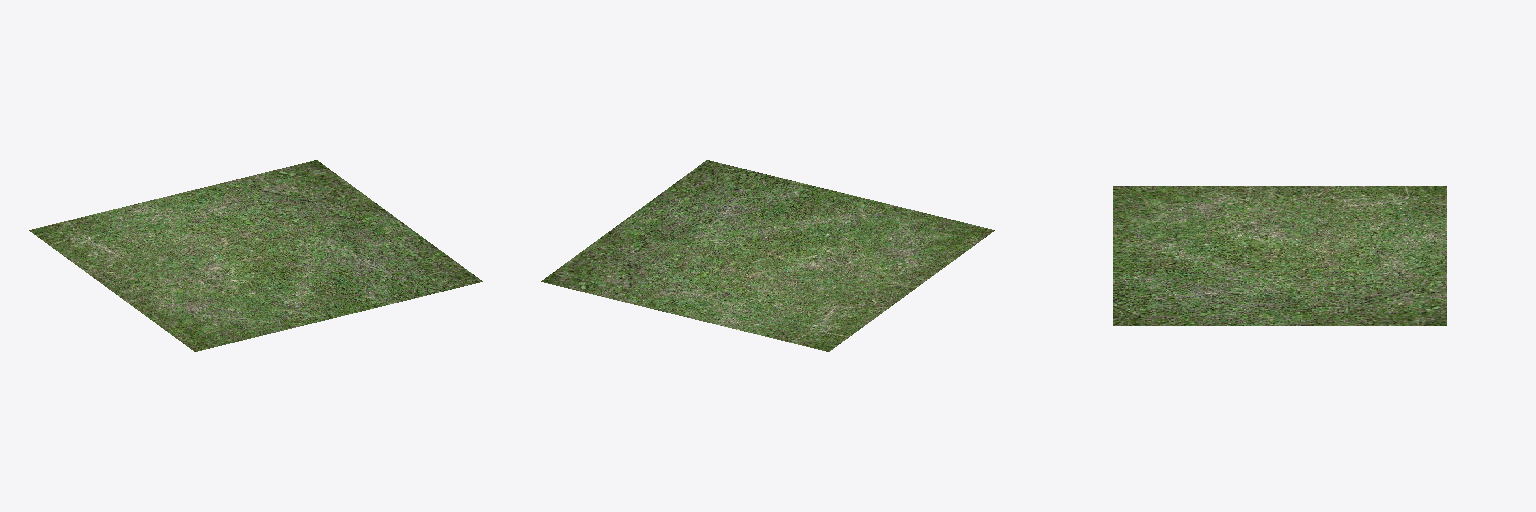
3 views of the same model, side by side, from view 1: azimuth 30°, elevation 25°; view 2: azimuth 150°, elevation 25°; view 3: azimuth 270°, elevation 25° (orthographic).
Bounding box in the file's own units: 24 × 0 × 24.
Materials: 1 (1 with a texture image).